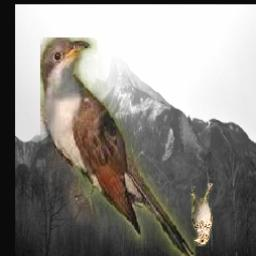Cuckoo: (40, 37, 196, 256)
Sparrow: (190, 184, 213, 247)
